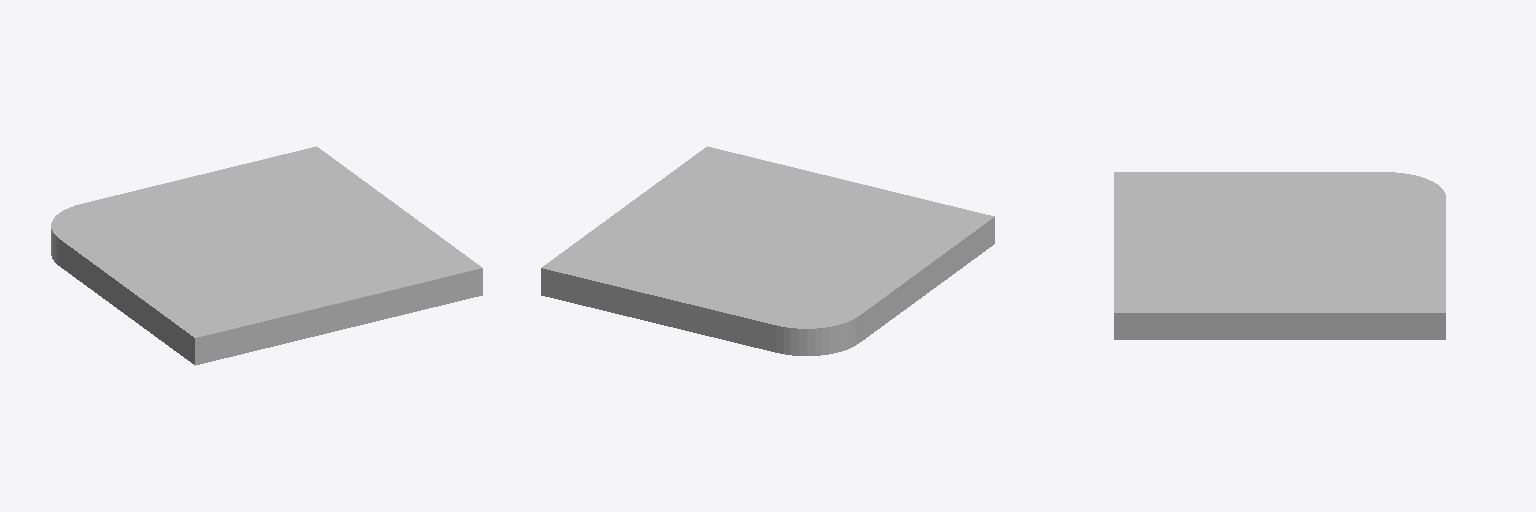
File: floorCornerRound.obj
3 renders of one model, left to right at view 1: azimuth 30°, elevation 25°; view 2: azimuth 150°, elevation 25°; view 3: azimuth 270°, elevation 25°, orthographic.
Parts seen in each view (by area): view 1: floorCornerRound; view 2: floorCornerRound; view 3: floorCornerRound.
Part boxes in pixels (x1,y1,x2,y2): floorCornerRound: (51, 146, 482, 365); floorCornerRound: (541, 146, 994, 355); floorCornerRound: (1114, 172, 1445, 339).
Size of the model in its own units: 0.55 by 0.05 by 0.55.